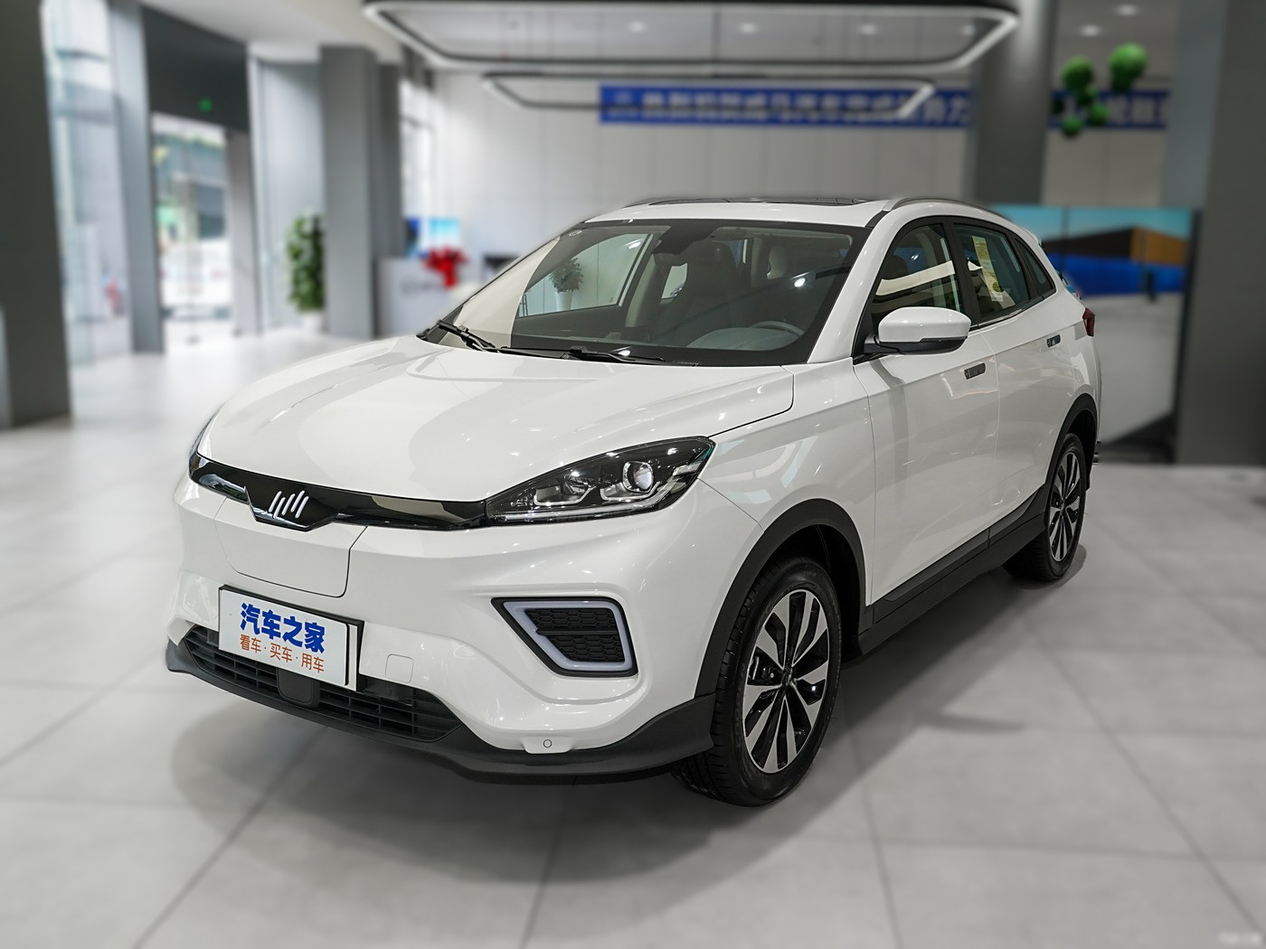WELTMEISTER: (269, 492, 307, 518)
